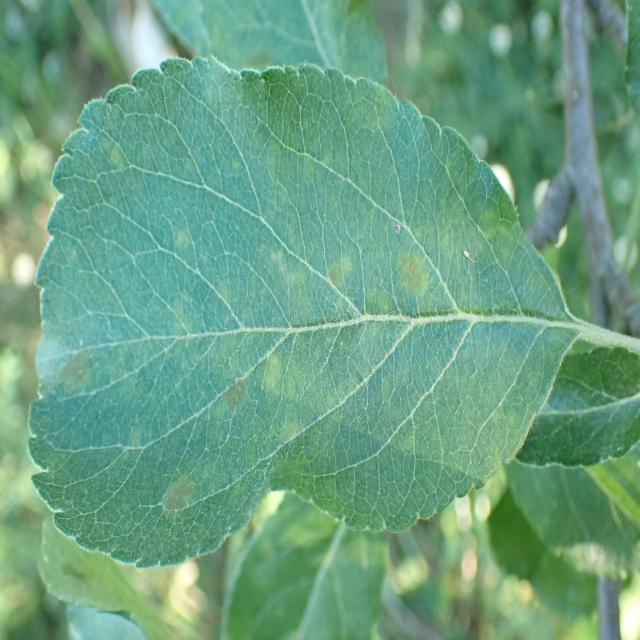scab: (54, 105, 522, 538), (215, 1, 392, 85)
